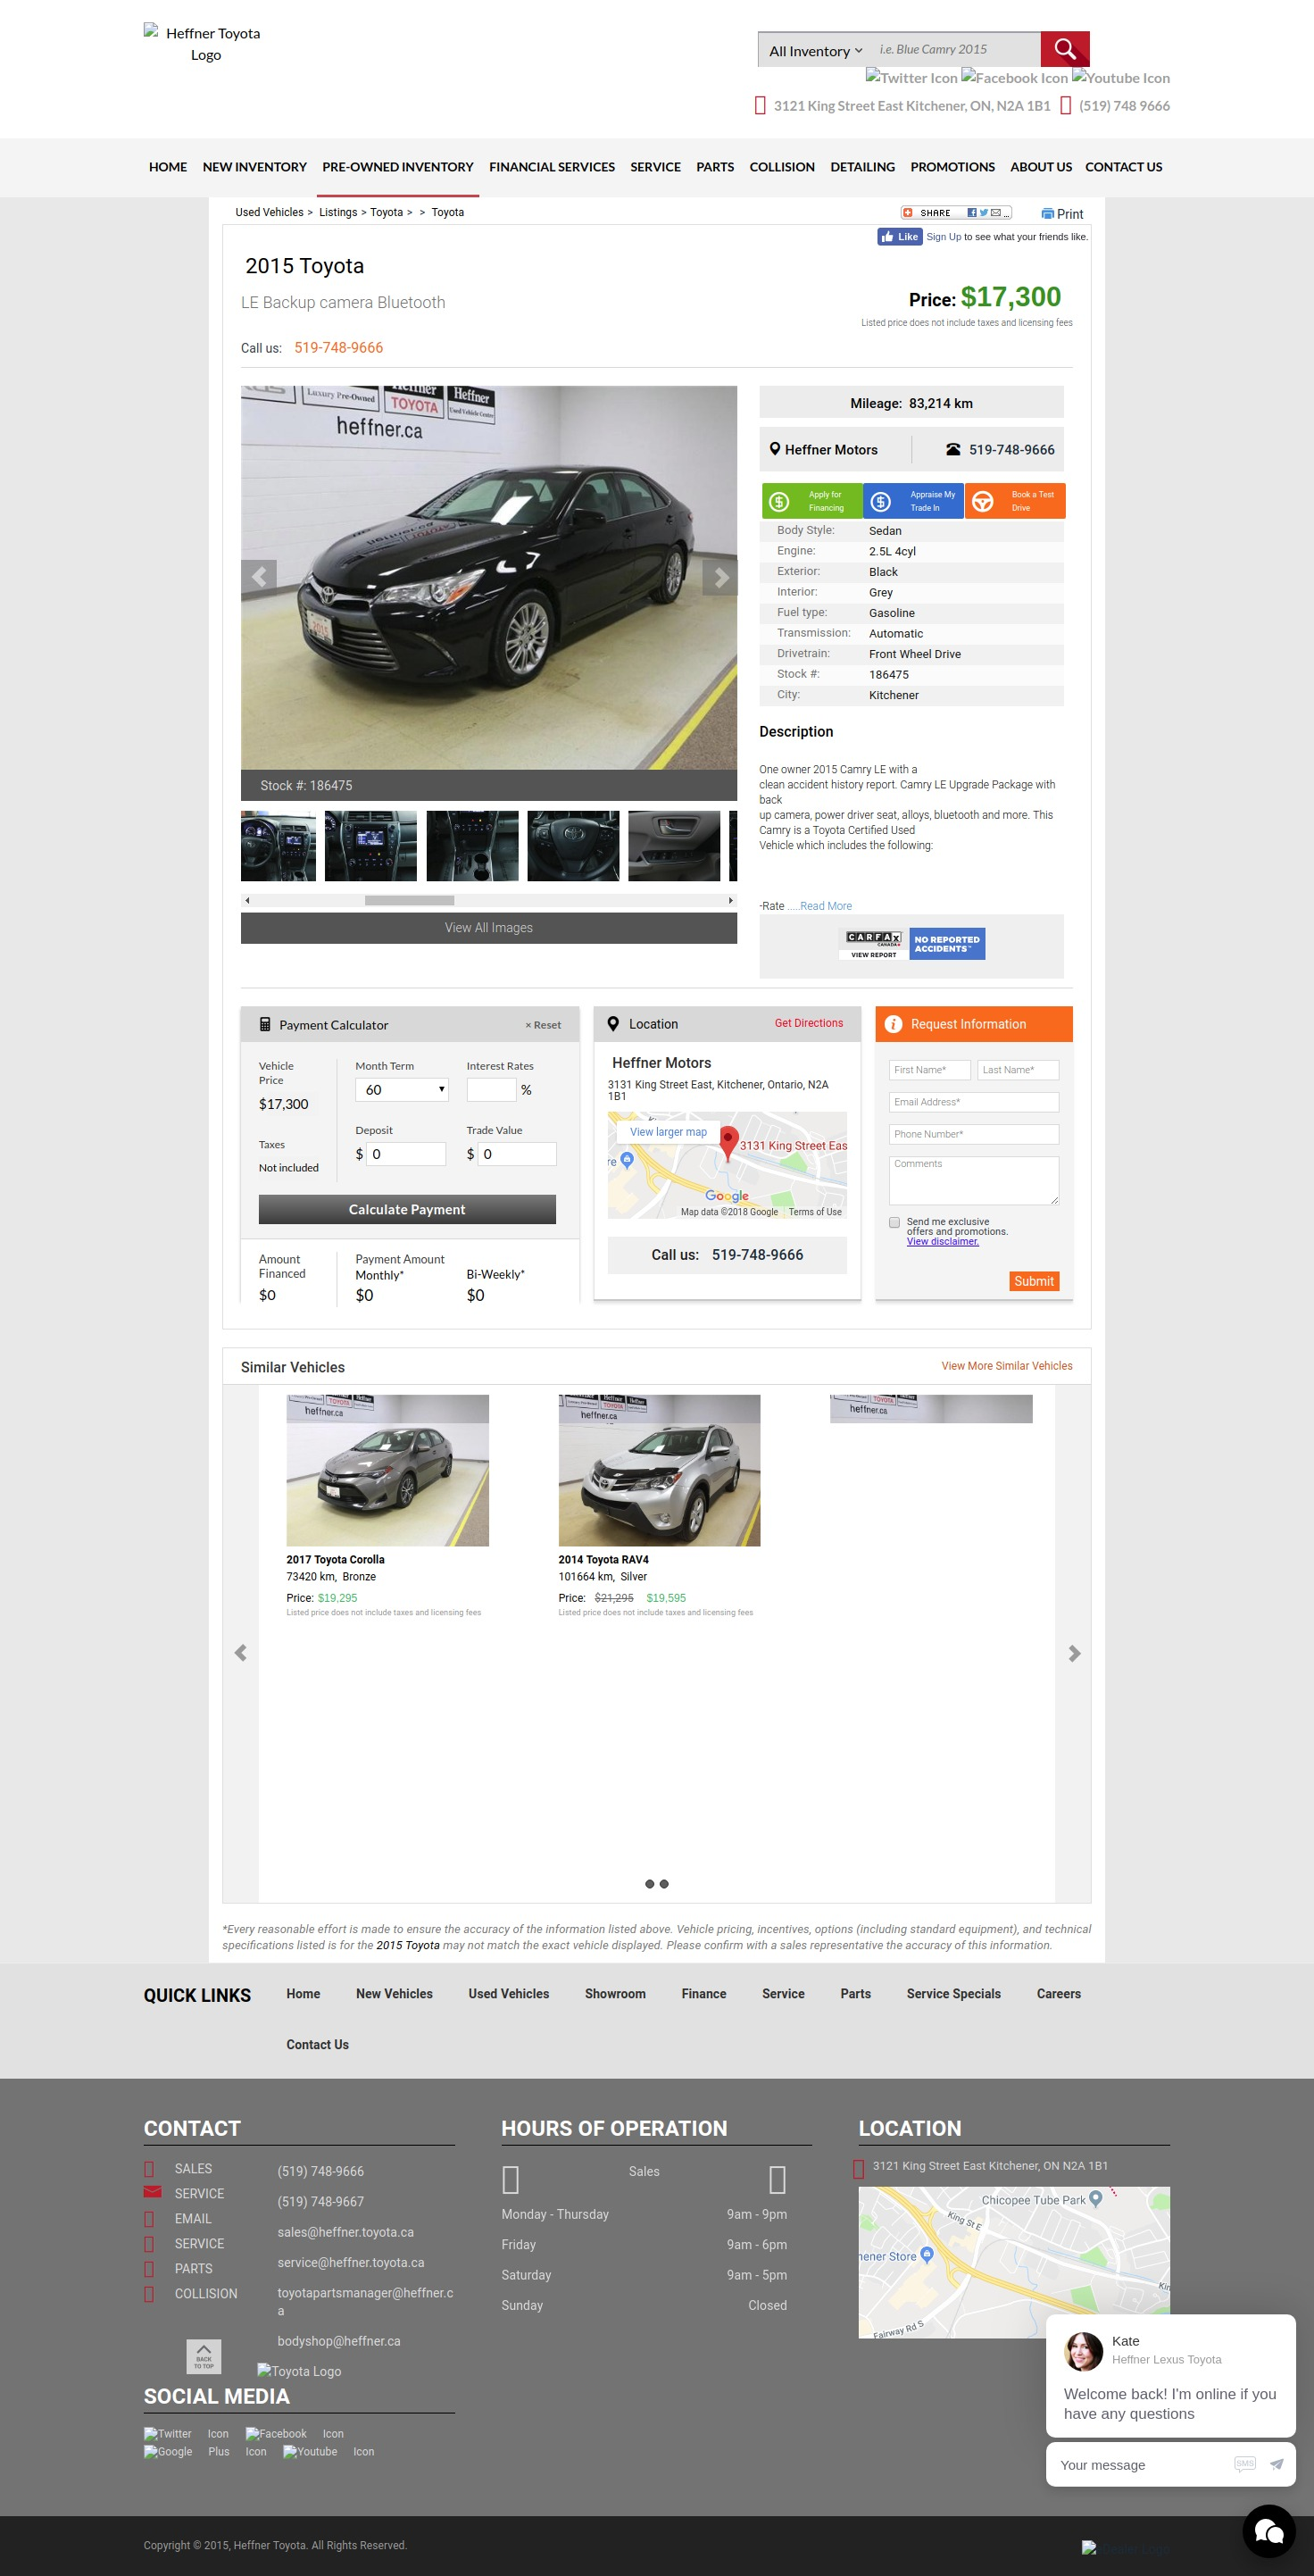car: (716, 568, 731, 590)
